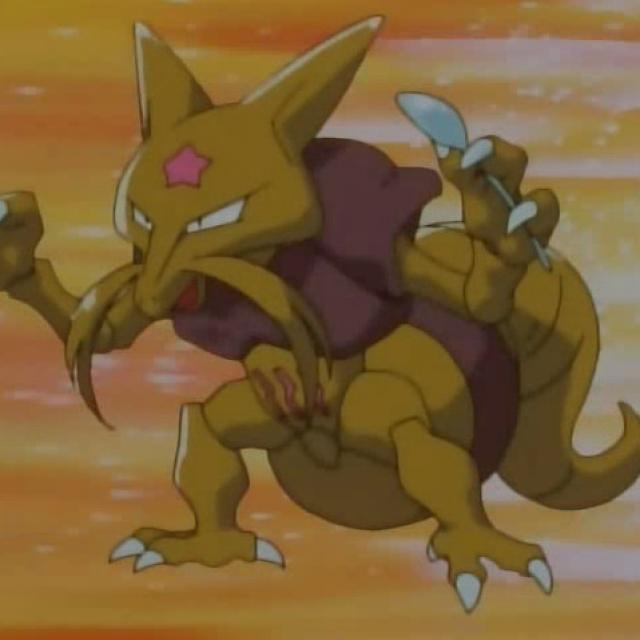Kadabra: (84, 19, 559, 566)
